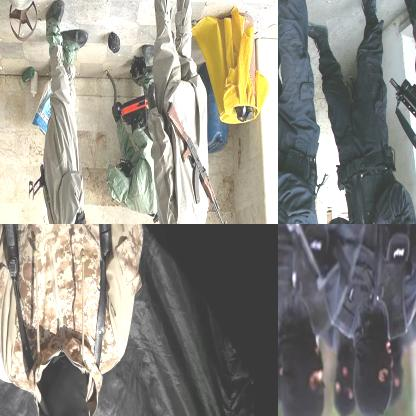pistol: (0, 224, 26, 286)
rifle: (166, 99, 229, 223), (278, 224, 341, 291), (388, 69, 415, 151)
